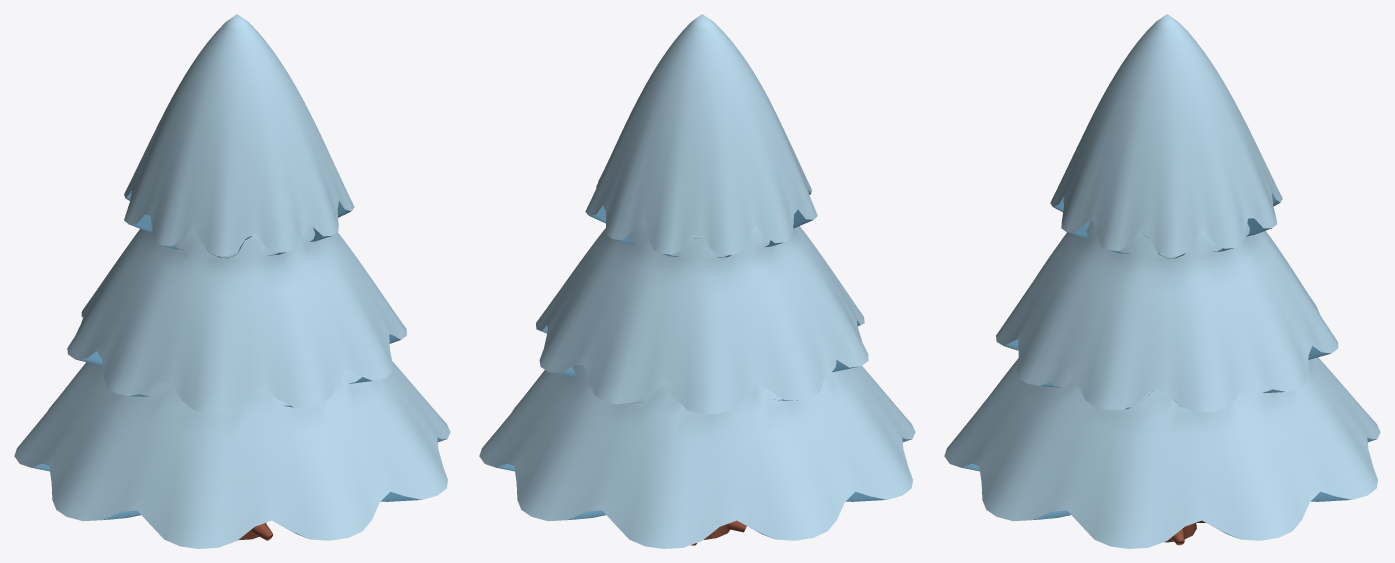
File: pine_1.glb
3 views of the same model, side by side, from view 1: azimuth 30°, elevation 25°; view 2: azimuth 150°, elevation 25°; view 3: azimuth 270°, elevation 25° (orthographic).
Visible parts, largest first — view 1: pine_1; view 2: pine_1; view 3: pine_1.
Boxes of the visible parts, bbox=[...] form: pine_1: bbox=[14, 14, 450, 548]; pine_1: bbox=[479, 14, 915, 548]; pine_1: bbox=[944, 14, 1380, 548].
Size of the model in its own units: 2.37 by 3.07 by 2.35.
Materials: 3 (3 with a texture image).
